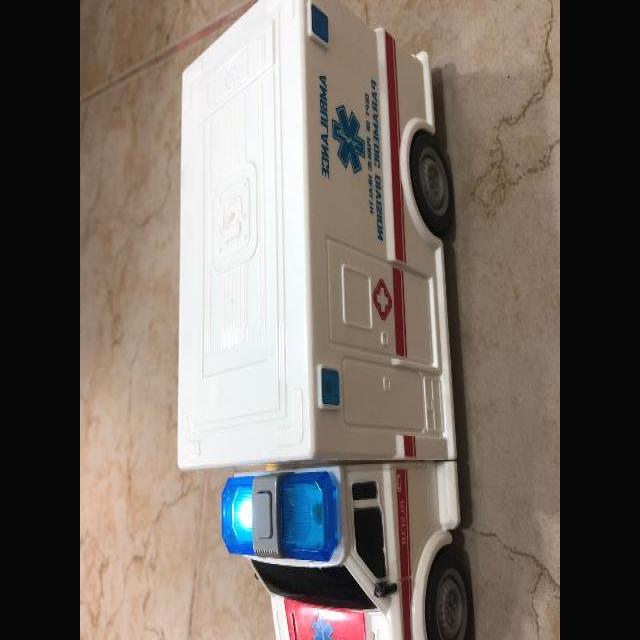emergency-vehicle: (180, 0, 474, 640)
